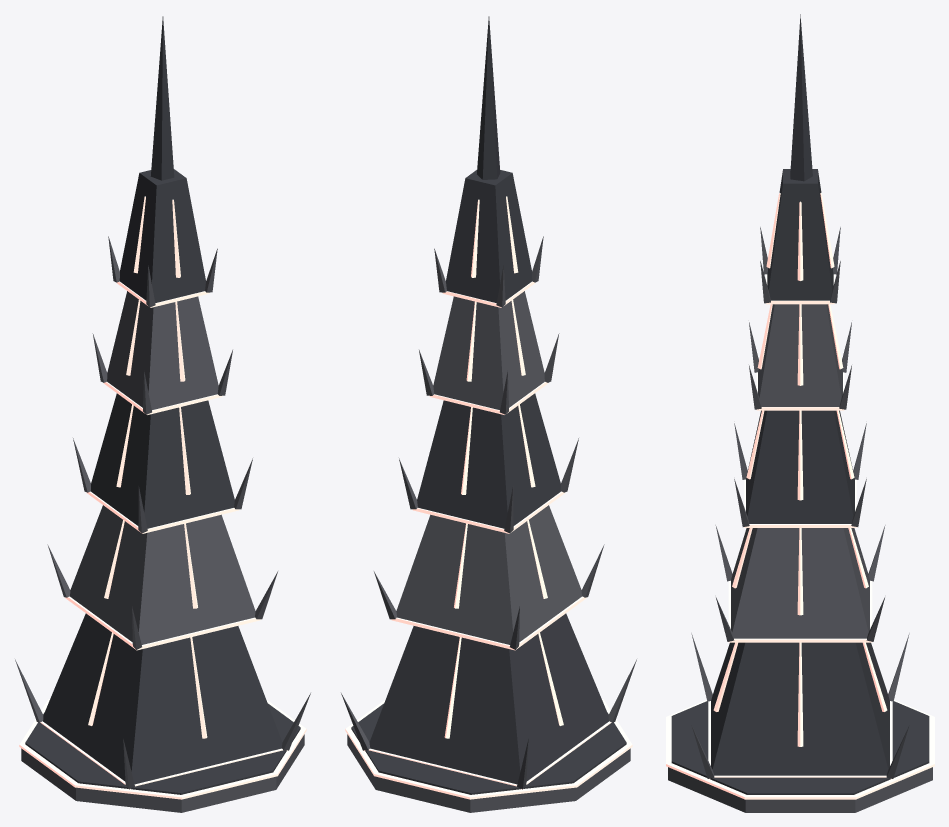
File: zone_high_5.glb
The picture shows the model from 3 angles, left to right: view 1: azimuth 30°, elevation 25°; view 2: azimuth 150°, elevation 25°; view 3: azimuth 270°, elevation 25°; orthographic projection.
Parts seen in each view (by area): view 1: zone_high_5; view 2: zone_high_5; view 3: zone_high_5.
Part boxes in pixels (<box>): zone_high_5: <box>15,16,310,812</box>; zone_high_5: <box>341,16,636,812</box>; zone_high_5: <box>666,14,934,812</box>.
Bounding box in the file's own units: 27.35 × 83.38 × 27.35.
